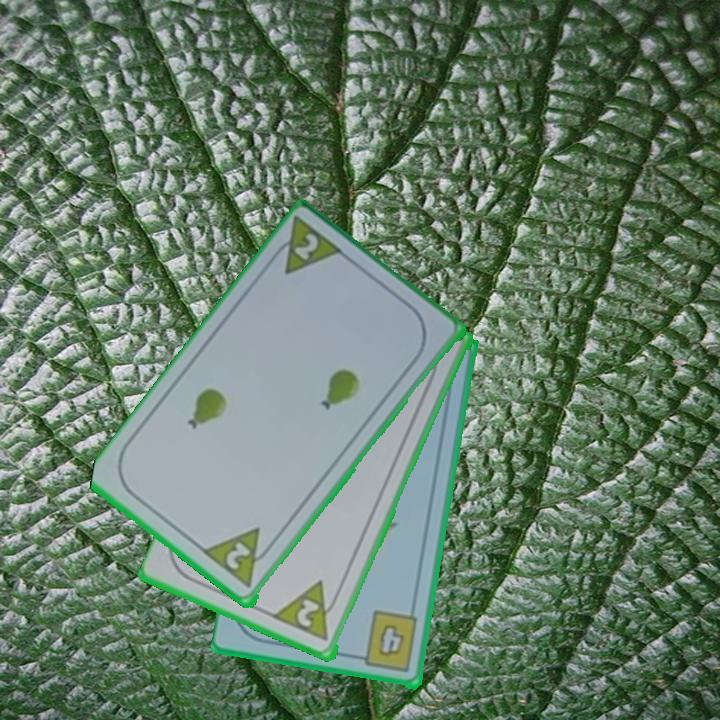2p: (201, 524, 279, 592), (290, 230, 322, 264), (293, 595, 323, 631)
4b: (351, 608, 421, 676)
